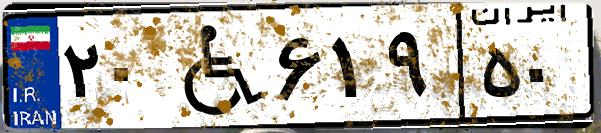0: (525, 38, 570, 115), (110, 28, 158, 98)
1: (330, 28, 385, 110)
2: (57, 26, 110, 100)
5: (475, 38, 525, 113)
6: (270, 28, 330, 110)
9: (385, 28, 445, 110)
ژ (معلولین و جانبازان): (158, 12, 270, 120)
